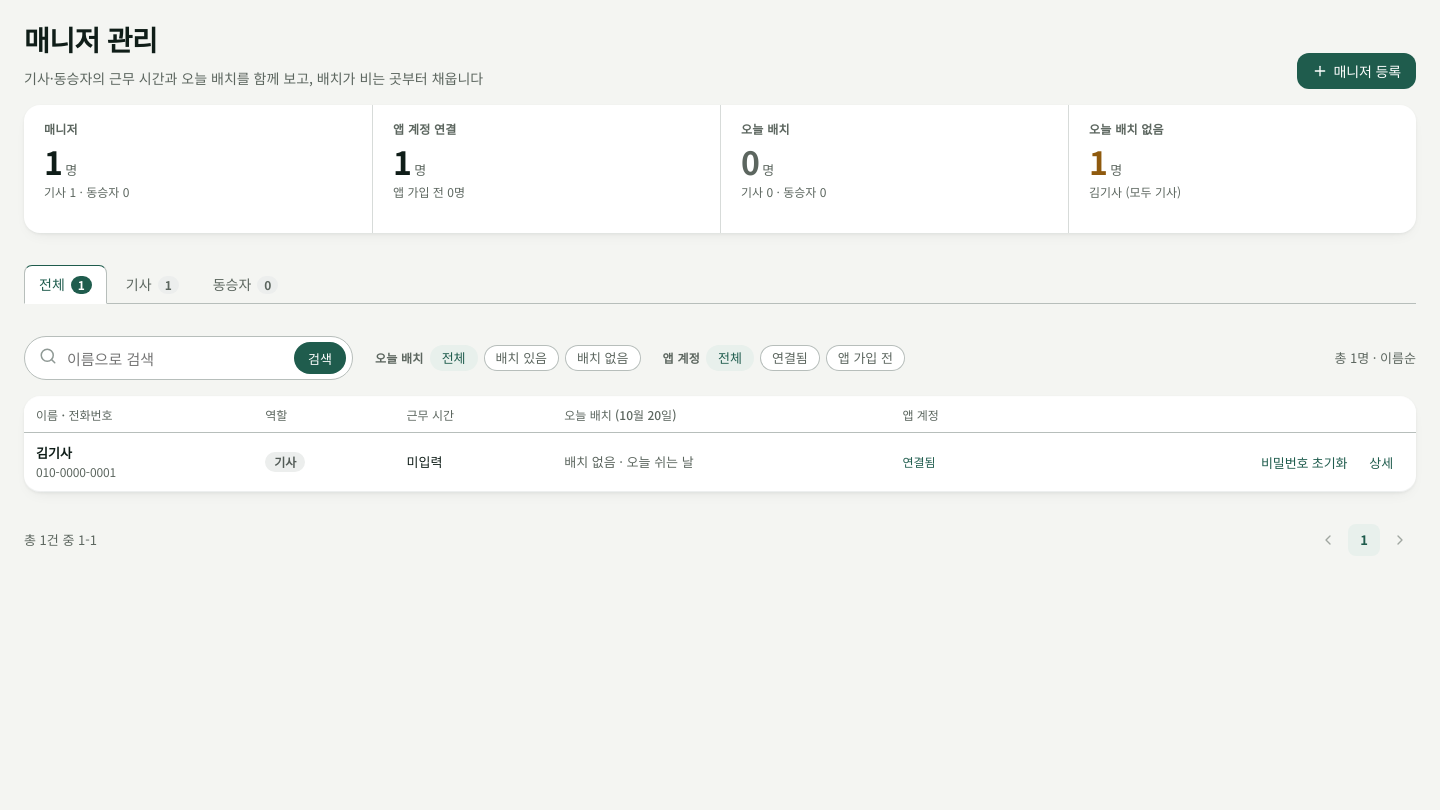
Test: ManagerList — 기사 미배치 띠 · 오늘 배치 열 › 행의 상세 단추를 누르면 그 매니저의 옆 패널이 열린다
Click the button with aria-label "김기사 상세" at (1381, 462), box [1358,448,1404,476]
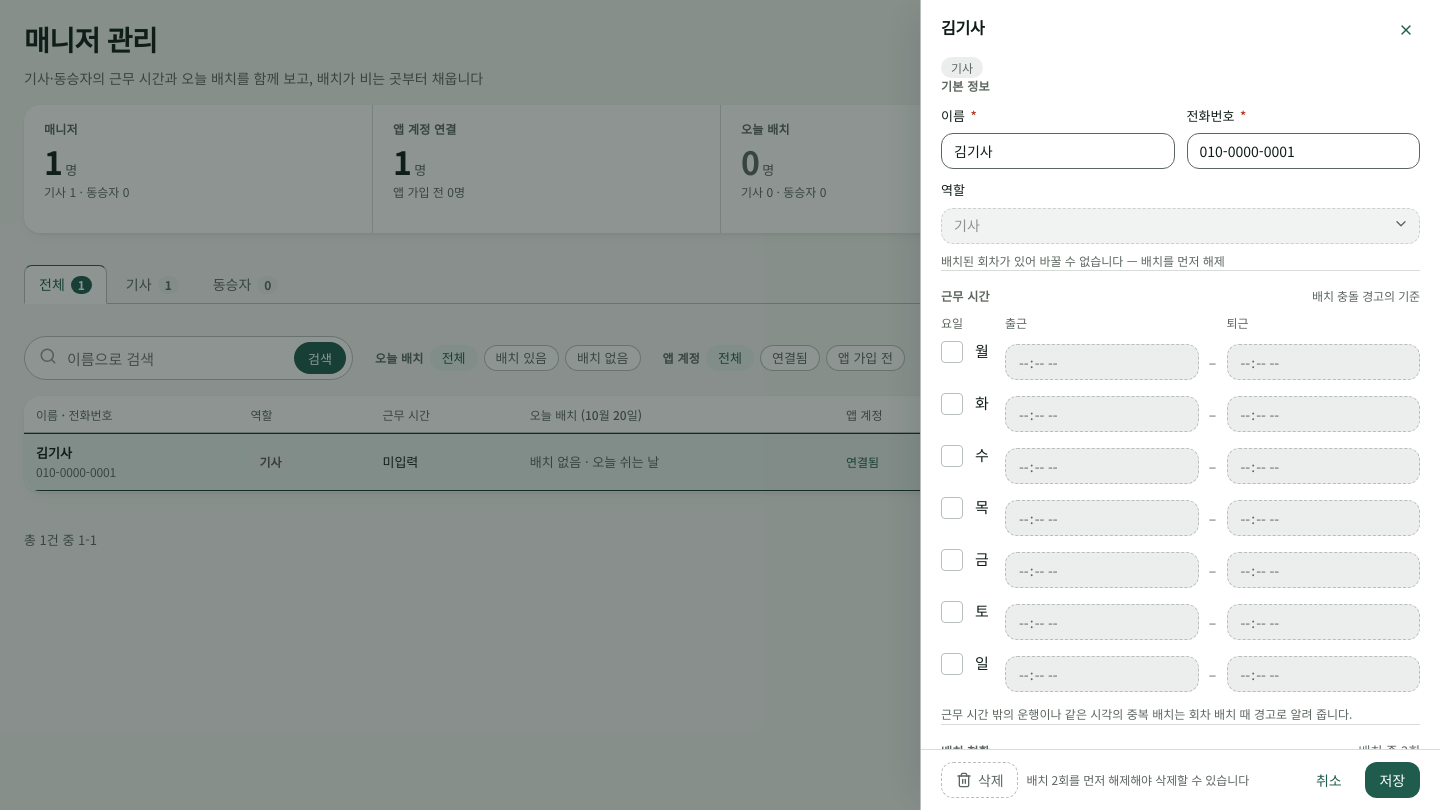
expect the text "배치 2회를 먼저 해제해야 삭제할 수 있습니다" is shown: met, box [1026,771,1249,789]
